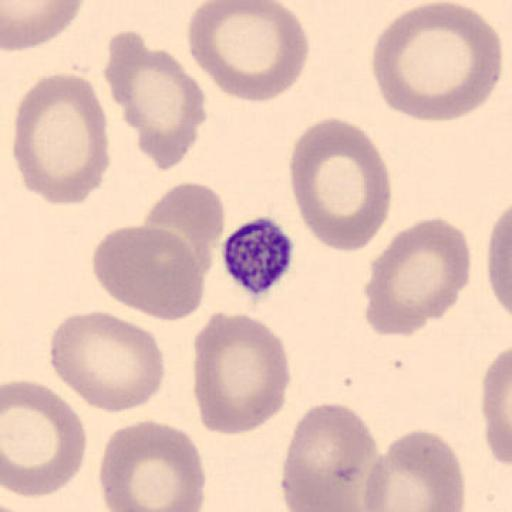Platelet: (220, 215, 298, 297)
RBC: (370, 0, 506, 124), (288, 115, 392, 255), (102, 39, 206, 174), (11, 71, 110, 208), (364, 215, 472, 339), (186, 0, 309, 104), (47, 309, 166, 415), (192, 310, 292, 436), (91, 224, 208, 322), (280, 400, 379, 512), (97, 417, 206, 512), (3, 378, 88, 498), (362, 429, 466, 512), (141, 180, 226, 274), (2, 0, 86, 51), (479, 345, 512, 470), (485, 203, 512, 322), (0, 0, 84, 24)
